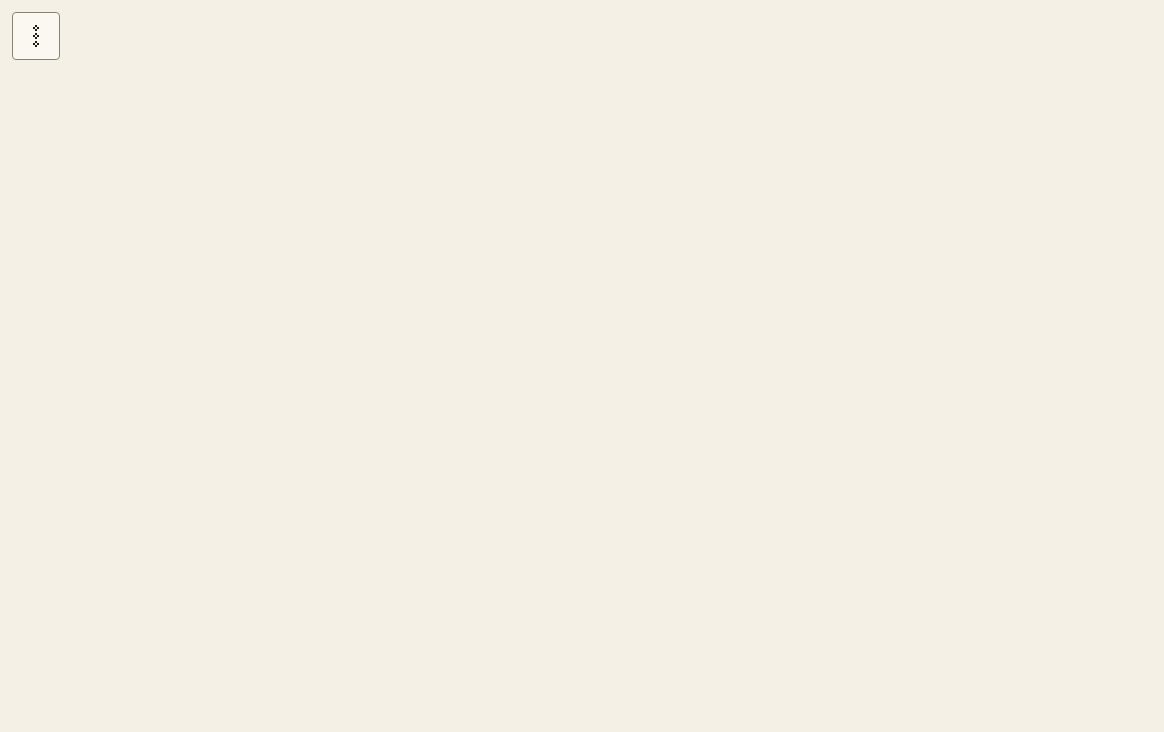
Test: CardMenu › a press outside closes it
Step 1. Click the button named "More for Coast run" → (36, 36), box [12,12,60,60]
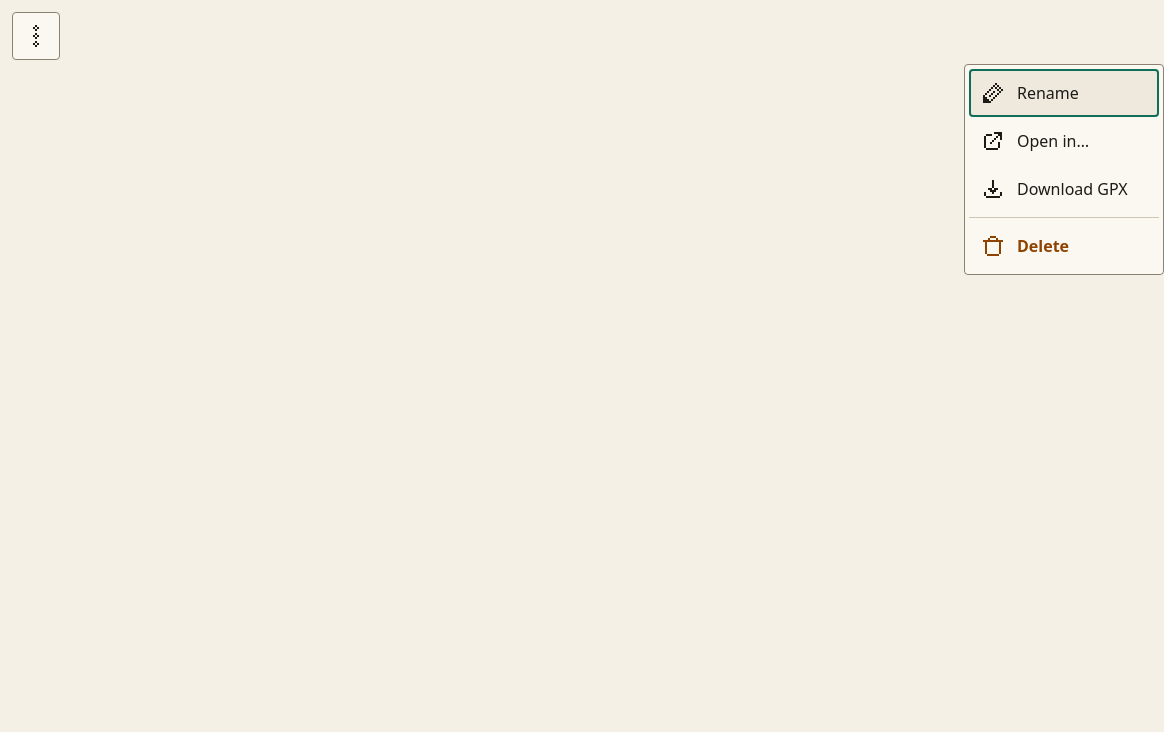
Step 2. Press the mouse on the element showing "Rename Open in… Download GPX Delete" → (588, 372), box [12,12,1163,731]
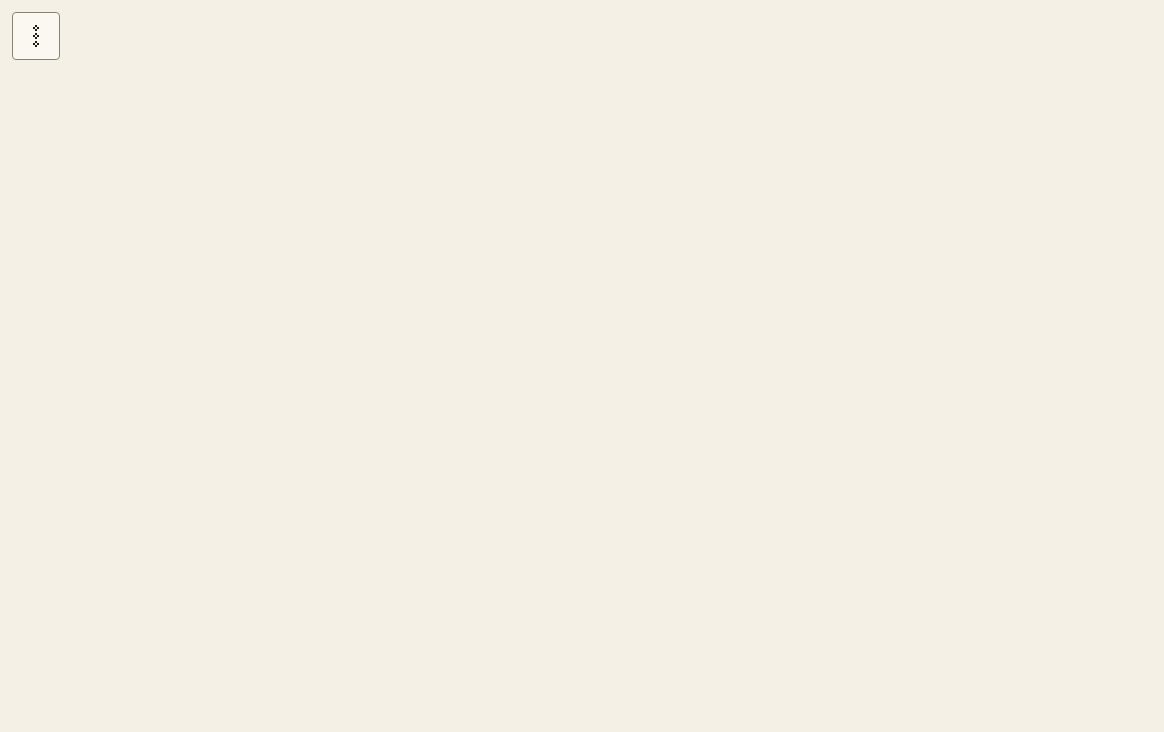
Expected: the menu is gone
